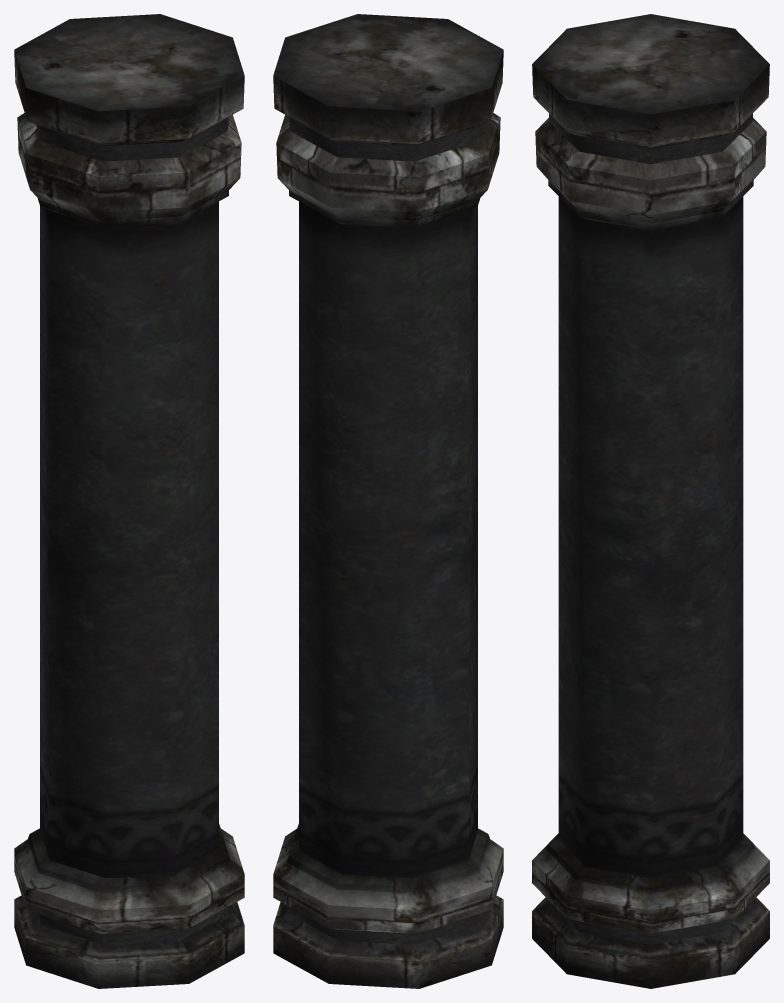
Rendered from plain_short.dae.
3 views of the same model, side by side, from view 1: azimuth 30°, elevation 25°; view 2: azimuth 150°, elevation 25°; view 3: azimuth 270°, elevation 25° (orthographic).
Parts seen in each view (by area): view 1: pCylinder1; view 2: pCylinder1; view 3: pCylinder1.
Boxes of the visible parts, x1,y1,x2,y2 form: pCylinder1: [14, 14, 244, 988]; pCylinder1: [273, 14, 503, 988]; pCylinder1: [532, 14, 769, 988].
Size of what is drawn, in the model's own units: 0.9859 by 4 by 0.9859.
